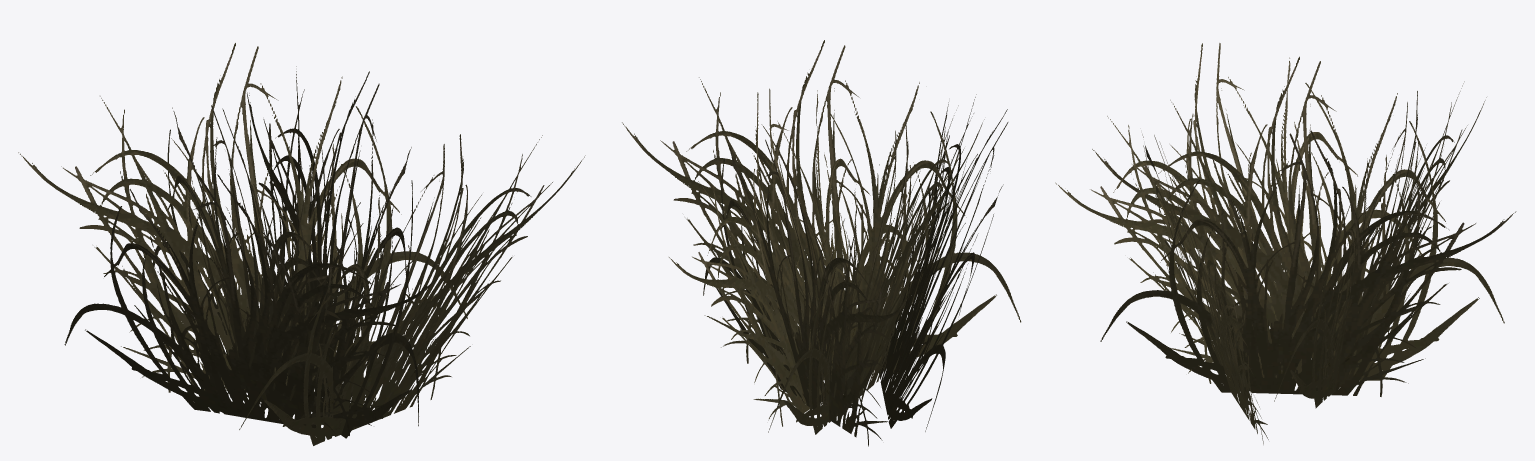
Rendered from grass.fbx.
3 views of the same model, side by side, from view 1: azimuth 30°, elevation 25°; view 2: azimuth 150°, elevation 25°; view 3: azimuth 270°, elevation 25° (orthographic). The views are drawn at different scales.
Parts seen in each view (by area): view 1: SM_LF_Grass01.mo; view 2: SM_LF_Grass01.mo; view 3: SM_LF_Grass01.mo.
Boxes of the visible parts, x1,y1,x2,y2 form: SM_LF_Grass01.mo: (18,43,585,445); SM_LF_Grass01.mo: (622,40,1021,446); SM_LF_Grass01.mo: (1055,43,1516,444).
Size of the model in its own units: 170 by 128 by 166.
